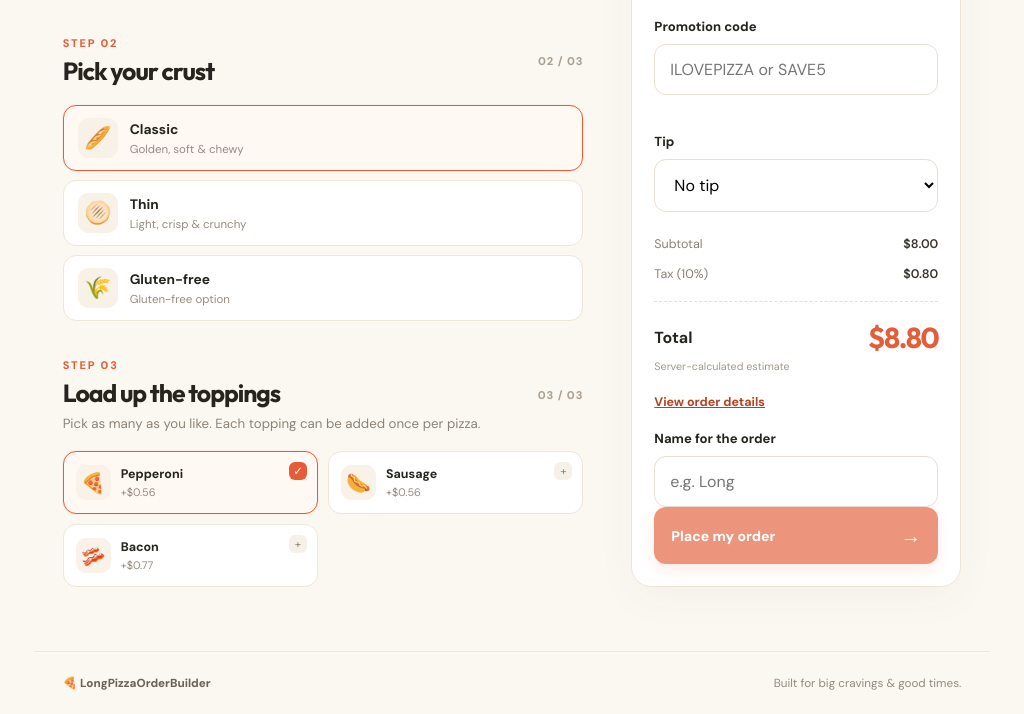
Test: UI-011: an unknown outcome is not reported as a plain failure › warns the order may have been received when the connection drops
(page scrolled)
Expected: the text with test id "order-total" reads "$8.80", [868, 319, 938, 355]
Type "Sam" into the field labelled "Name for the order" at {"x": 796, "y": 482}, box [654, 456, 938, 507]
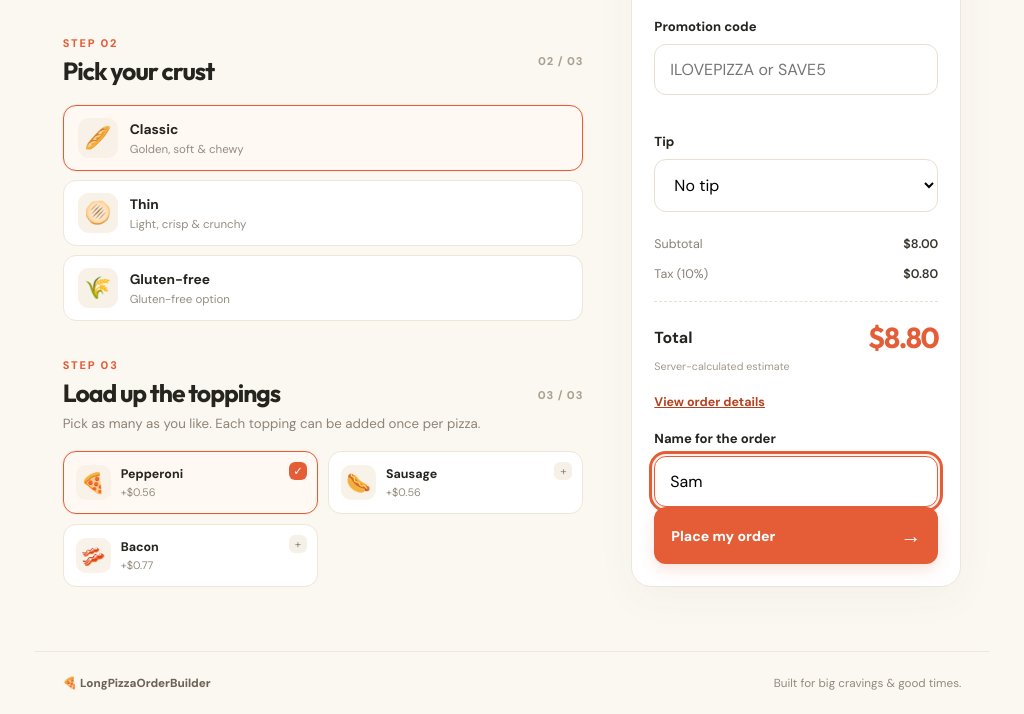
Click the button "Place my order →" at {"x": 723, "y": 536}, box [654, 507, 938, 564]
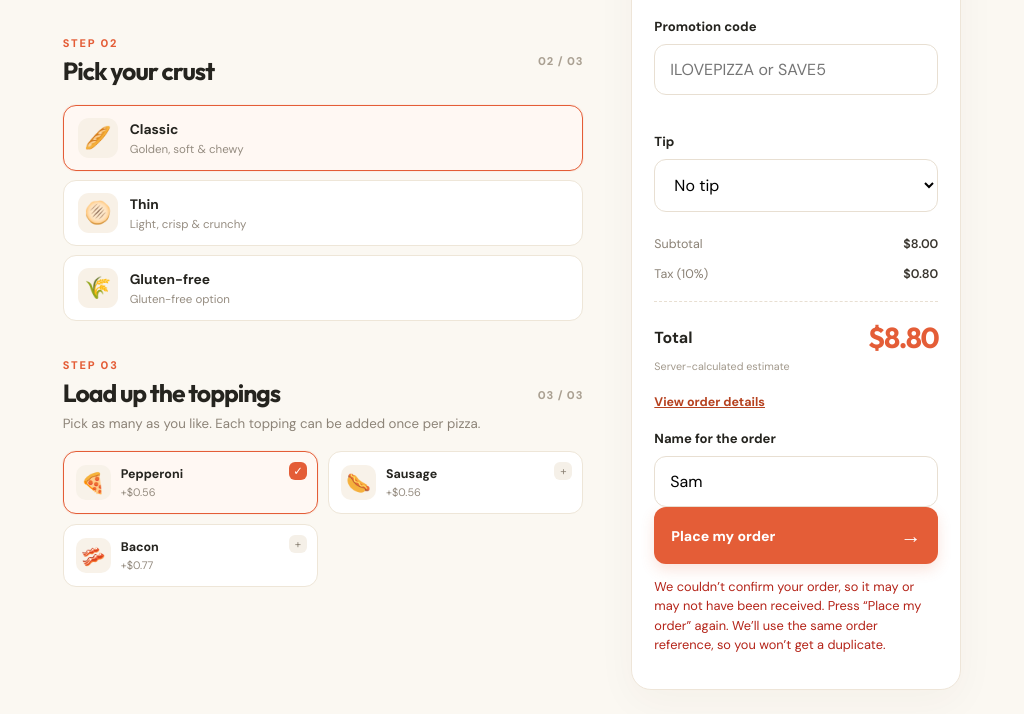
Expected: the 3rd message shows "may or may not have been received", [654, 578, 921, 653]
